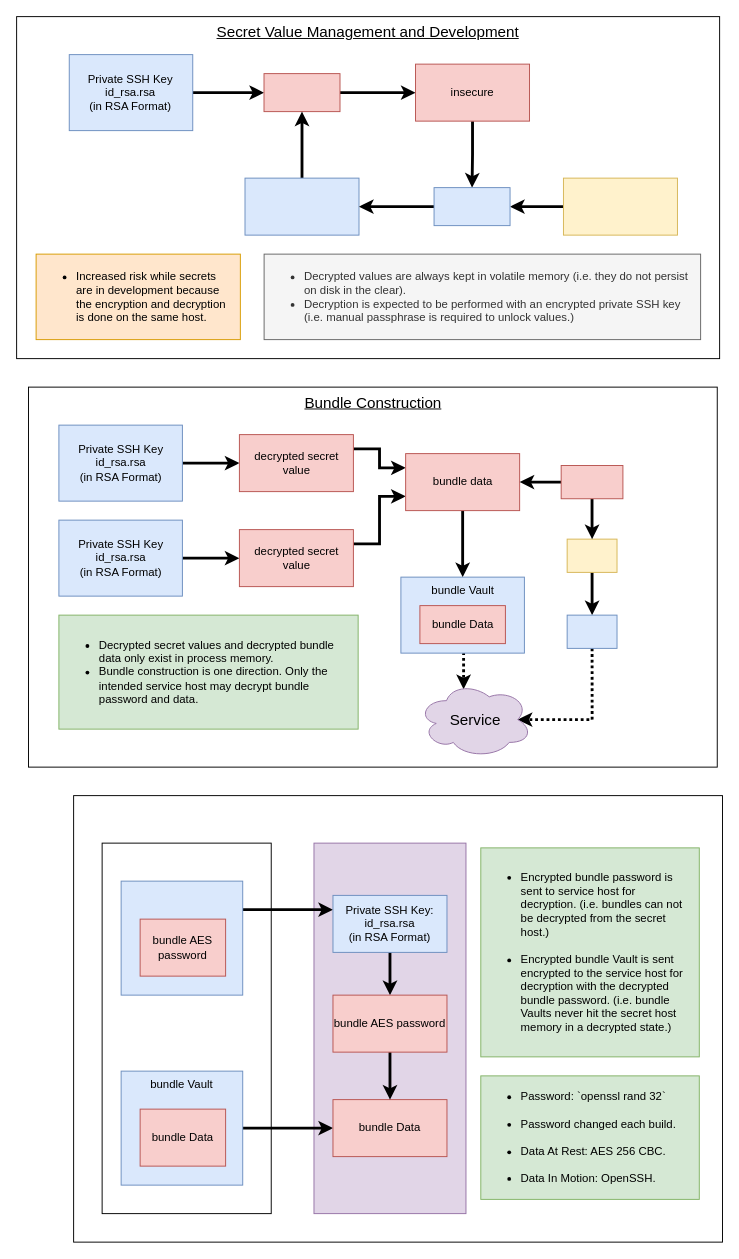
Some shapes in this 739 by 1259 pixel diagram are drawn without their labels. Each missing label, with the box of its shape:
Bundle Distribution and Decryption: (73, 795, 722, 1242)
bundle key: (566, 614, 617, 648)
bundle password: (560, 465, 623, 499)
bundle pubkey: (566, 538, 617, 572)
Encrypted with: bundle.key: (120, 880, 243, 995)
lock: (433, 187, 510, 226)
Public SSH Key id_rsa.pub (in PKCS8 Format): (562, 177, 677, 235)
Secret Host: (101, 842, 271, 1214)
secure: (244, 177, 359, 235)
Service Host: (313, 842, 466, 1214)
unlock: (263, 73, 340, 112)
